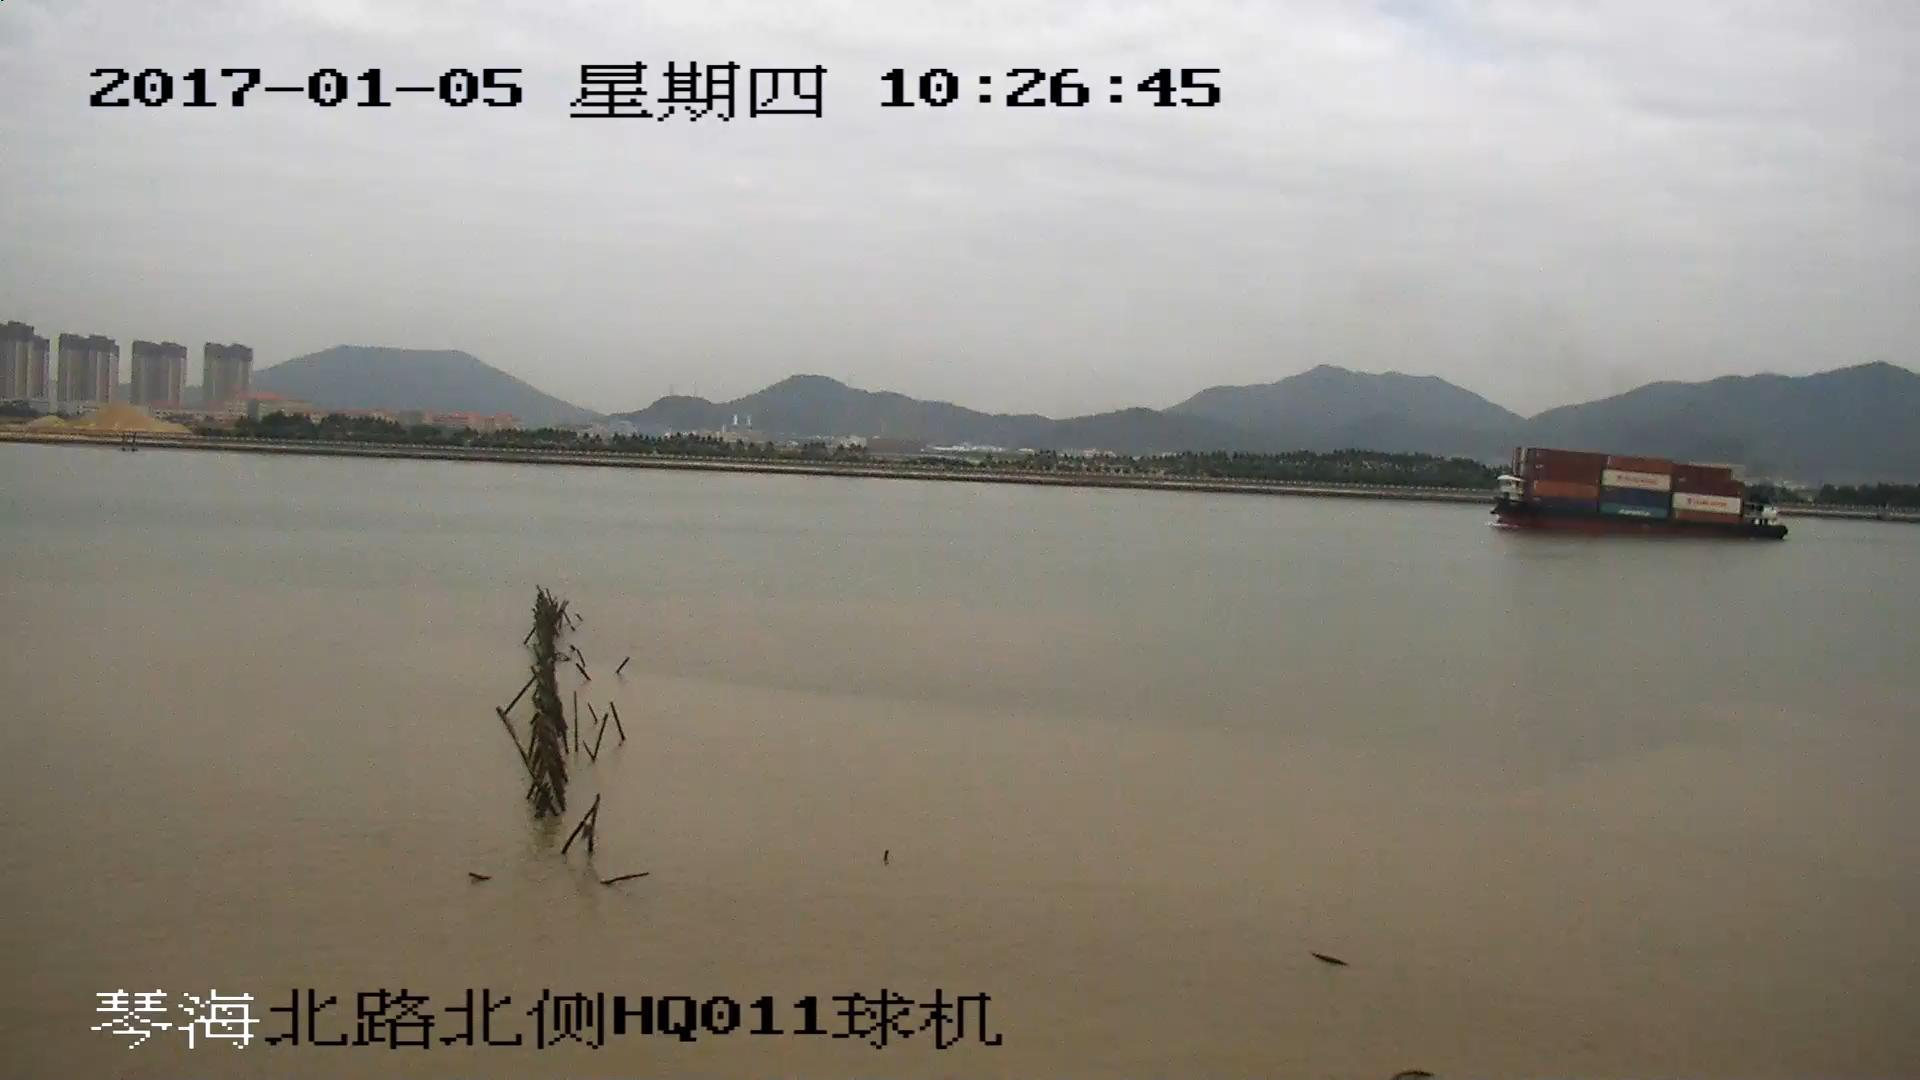Ship: (1491, 448, 1783, 541)
